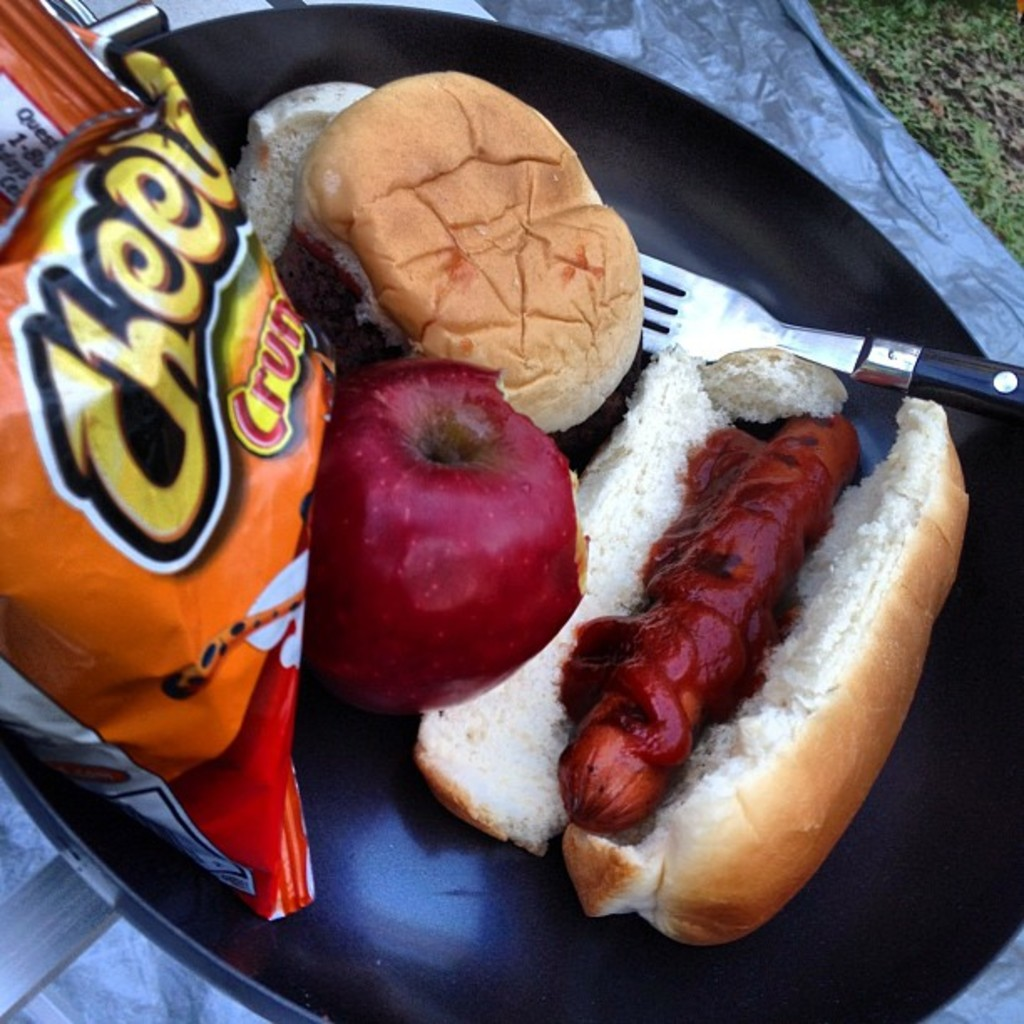hot_dog: (402, 323, 975, 965)
